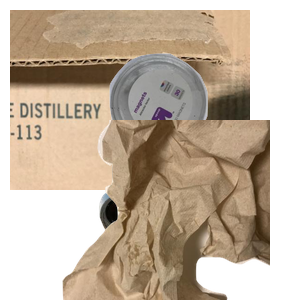cardboard: (10, 10, 250, 190)
glass: (96, 190, 230, 300)
plastic: (107, 51, 300, 199)
trash: (60, 120, 300, 300)
